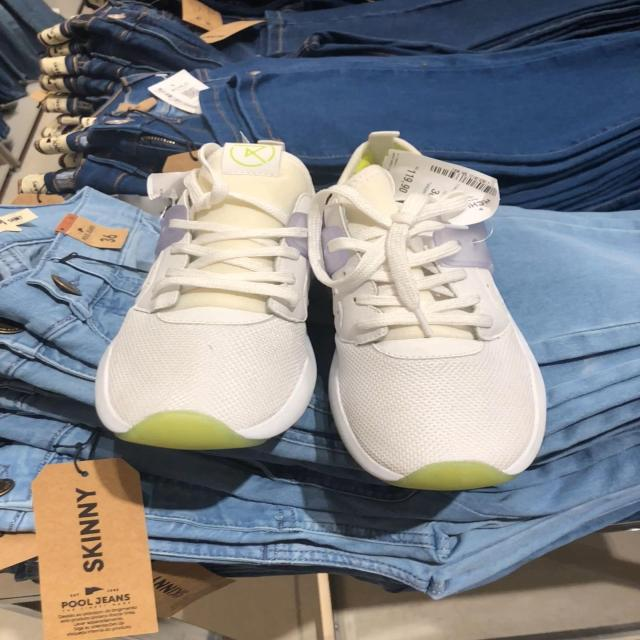shoe: (314, 132, 547, 493), (94, 141, 320, 455)
